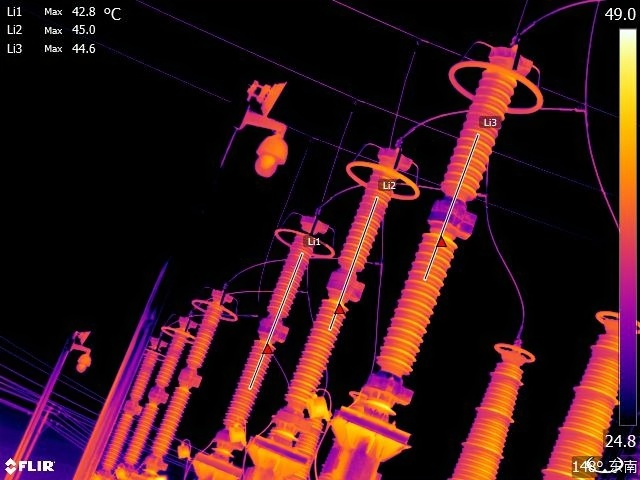clamp: (476, 186, 497, 207), (573, 102, 593, 119)
lightning arrester: (341, 32, 550, 423), (277, 135, 431, 439), (212, 201, 332, 460), (148, 267, 239, 472), (129, 308, 197, 469), (95, 331, 168, 474)
tube: (543, 312, 639, 480), (447, 334, 540, 480)
